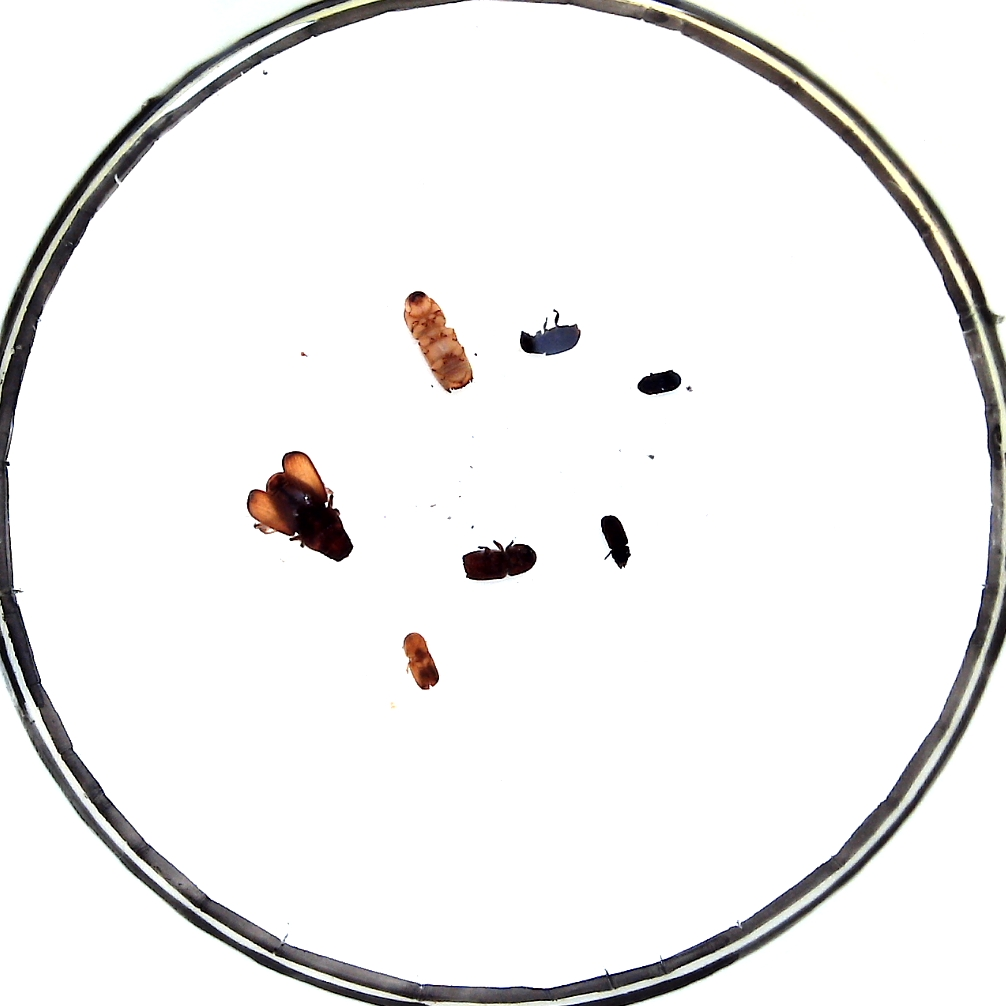Boerner: (401, 289, 475, 391)
Leconte: (247, 452, 355, 564)
Linnaeus: (465, 542, 535, 579)
armandi: (404, 631, 440, 692), (520, 322, 581, 355)
coleoptera: (601, 515, 629, 569), (637, 370, 683, 398)
